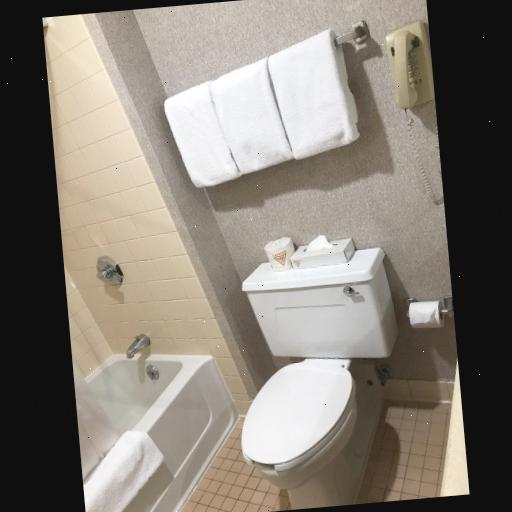clean_bathtub: (73, 353, 241, 512)
clean_toilet: (219, 226, 418, 512)
folded_towel: (156, 33, 368, 193), (81, 430, 170, 512)
